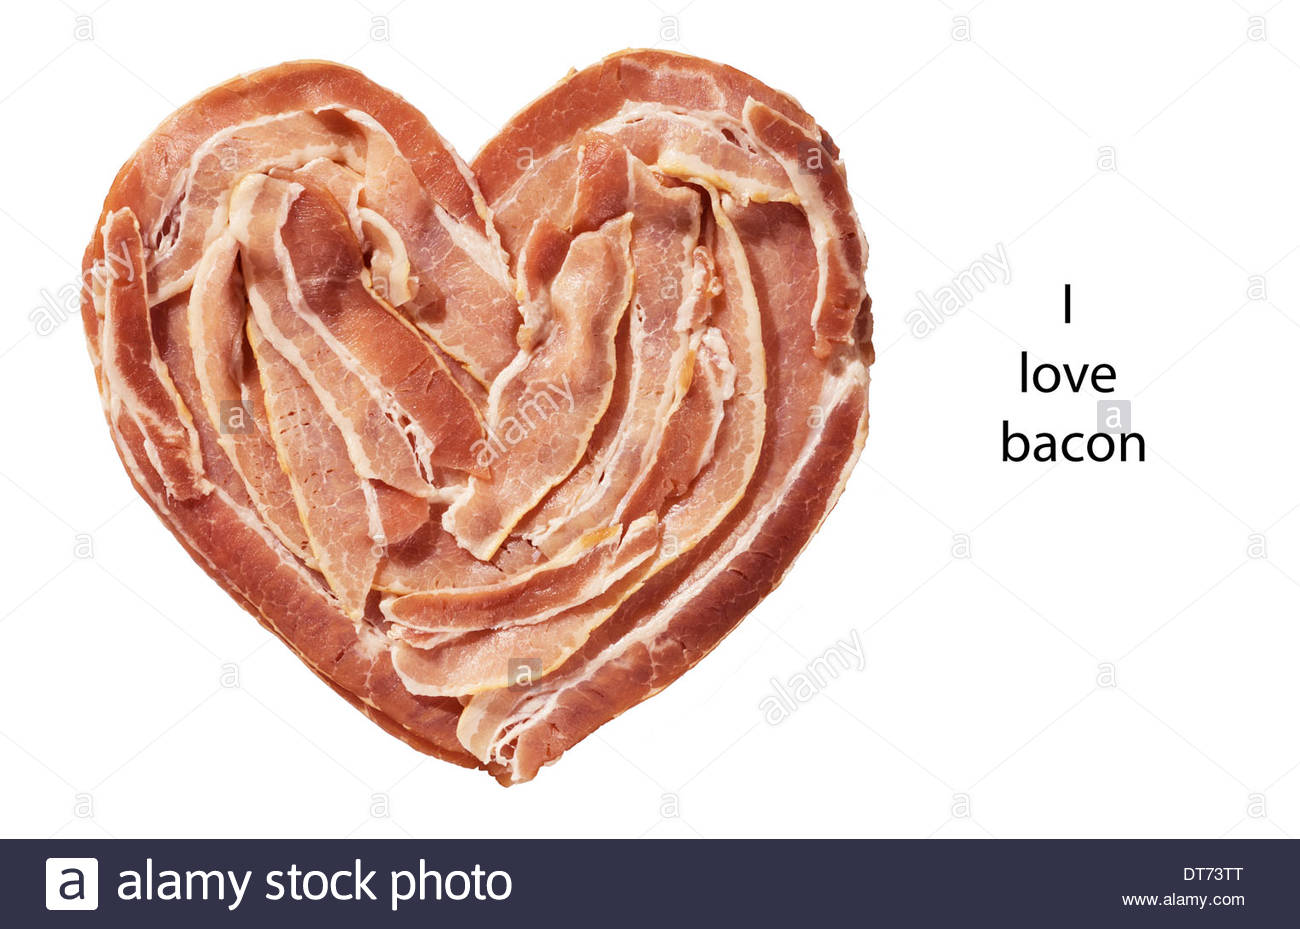bacon: (80, 72, 899, 714)
